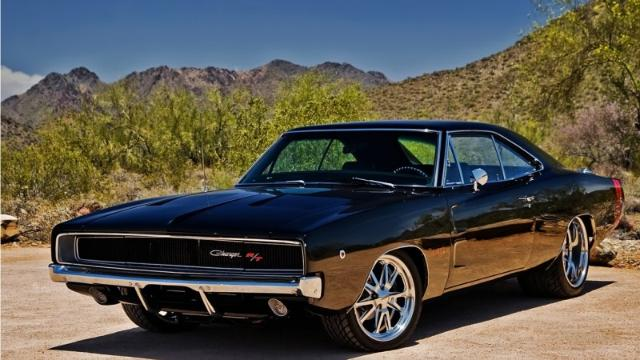dodge: (47, 119, 625, 353)
